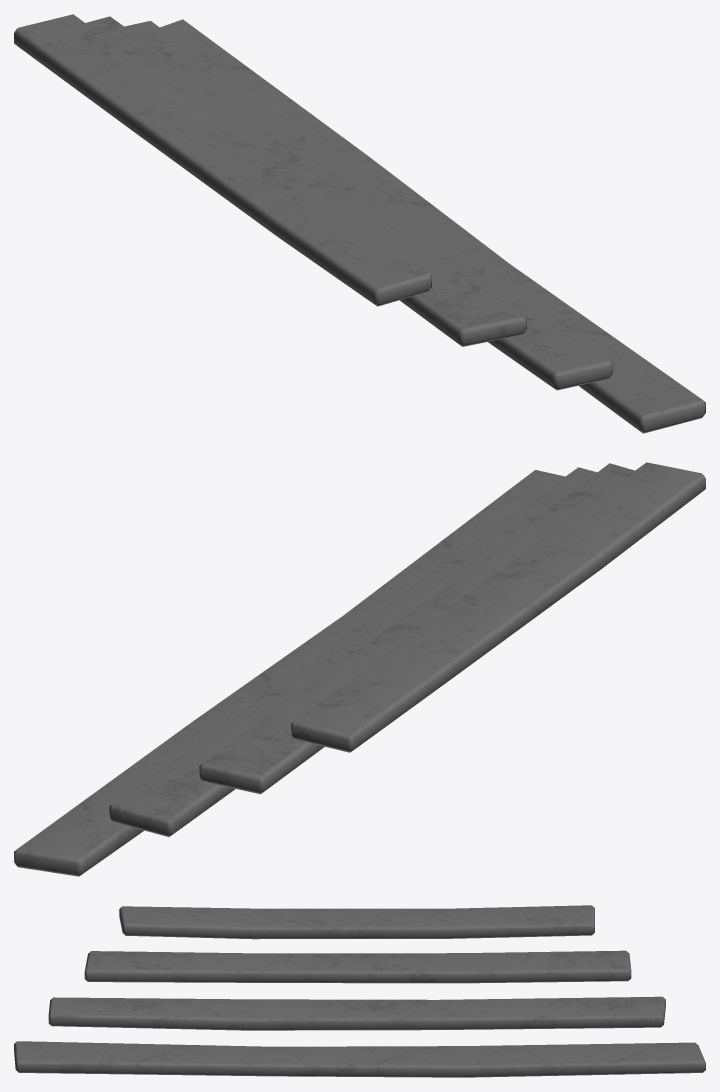
The model's file is Stair.FBX.
3 views of the same model, one above another, from view 1: azimuth 30°, elevation 25°; view 2: azimuth 150°, elevation 25°; view 3: azimuth 270°, elevation 25° (orthographic). The views are drawn at different scales.
Visible parts, largest first — view 1: Escada; view 2: Escada; view 3: Escada.
Part boxes in pixels (<box>): Escada: <box>14,14,705,433</box>; Escada: <box>14,462,705,876</box>; Escada: <box>14,905,705,1077</box>.
Size of the model in its own units: 144 by 72.78 by 501.
